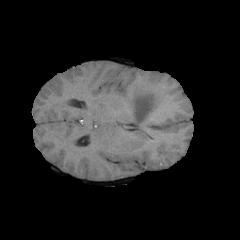glioma: (116, 85, 169, 134)
